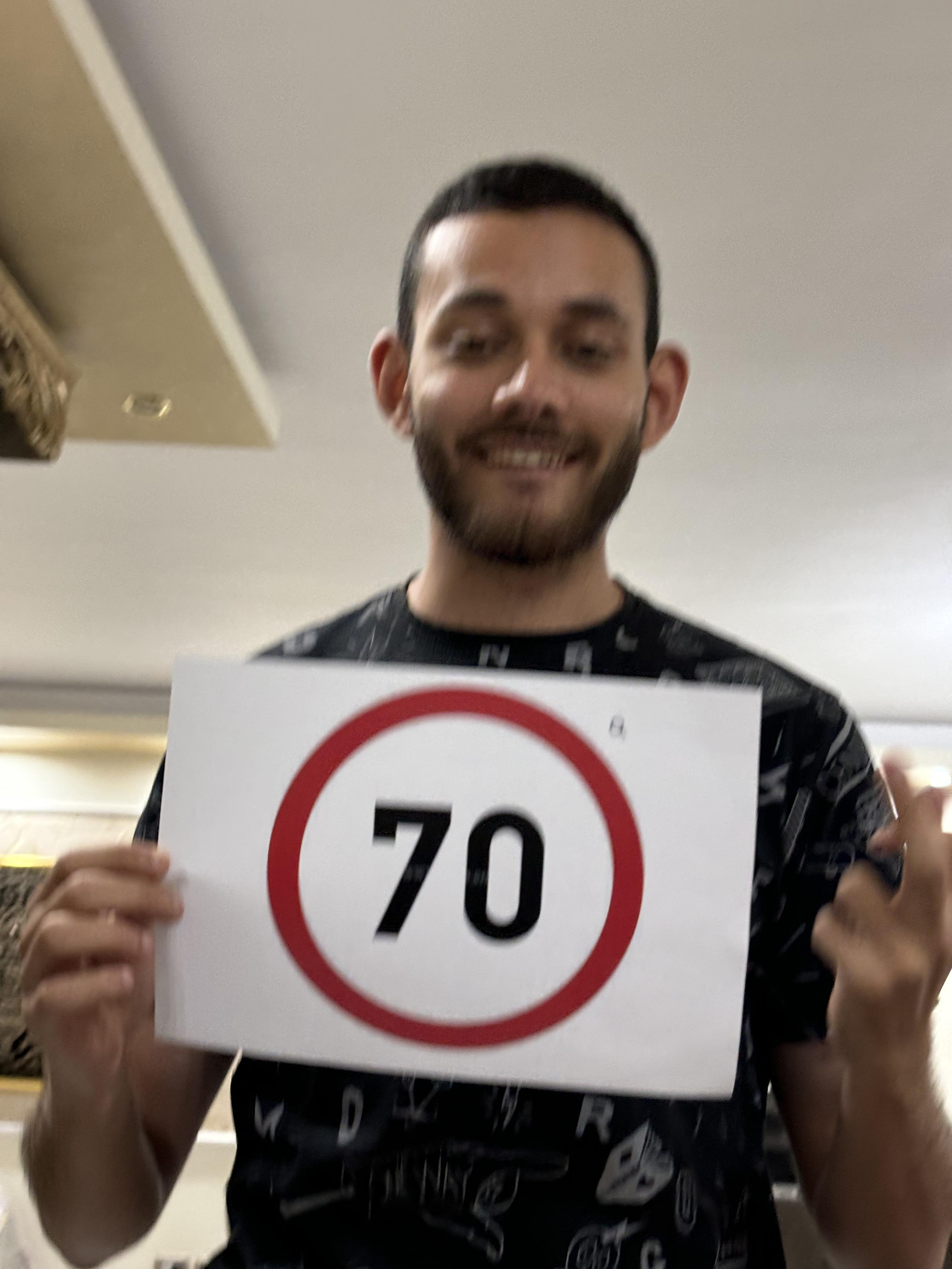70-Speed: (259, 677, 656, 1057)
